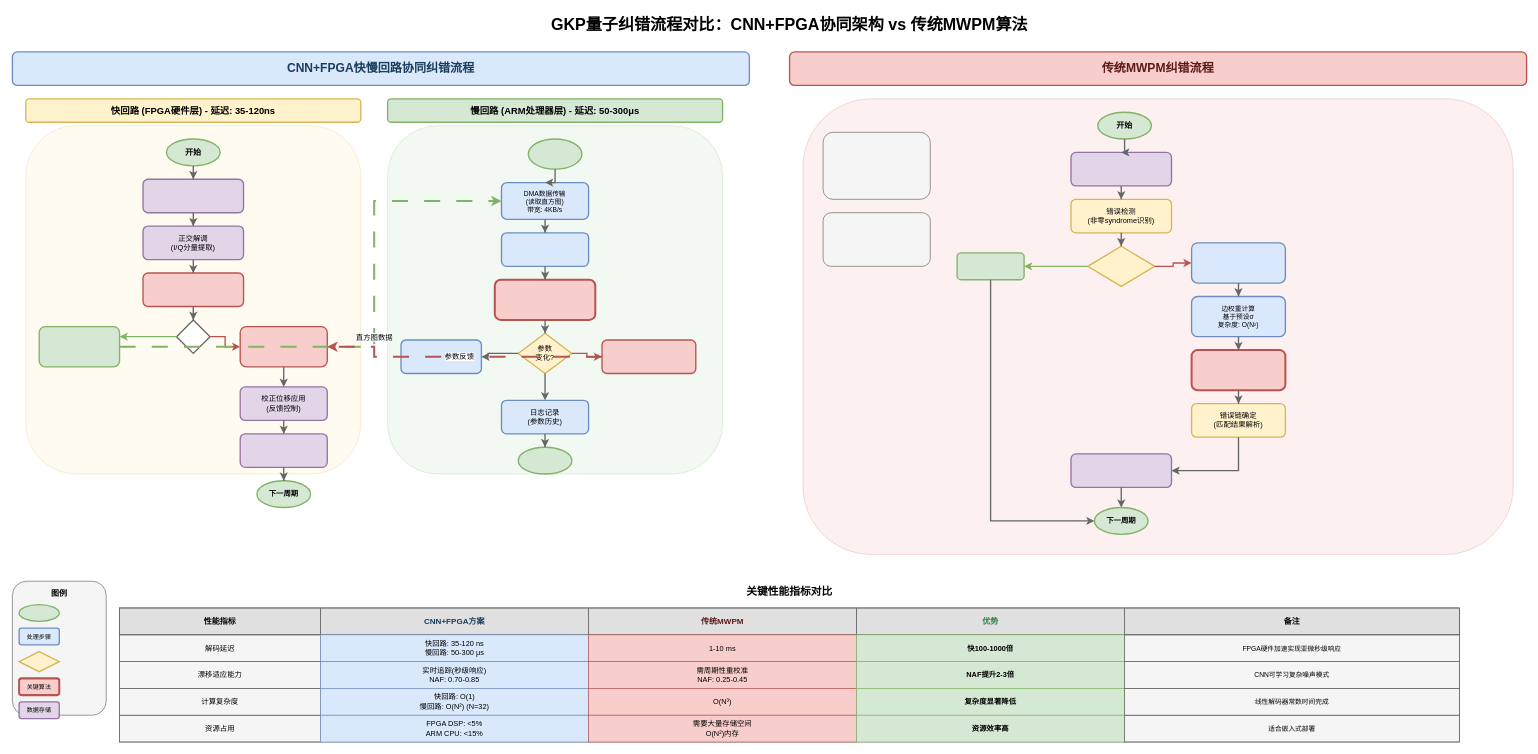
Image size: 1538x754. Some labels were removed from this diagram. The centre of each missing label's shape, as x and y in pixels:
"ADC数据采集 (微波信号数字化)" goes at (193,195).
"MWPM算法执行 (Blossom算法) 复杂度: O(N³)" goes at (1238,370).
"Pauli帧更新 (逻辑态追踪)" goes at (283,450).
"Syndrome测量 (稳定子测量)" goes at (1121,168).
"Tiny-CNN推理 (TFLite Micro) 预测: σ, μ, θ" goes at (544,299).
"决策节点" goes at (39,661).
"周期触发 (每1秒)" goes at (554,154).
"图像预处理 (归一化/增强)" goes at (544,249).
"局限性： • 无法适应漂移 • 高计算复杂度 • 需周期性重校准" goes at (876,239).
"开始/结束" goes at (39,613).
"性能特征： • 总延迟: 1-10 ms • 内存需求: O(N²) • 需预设噪声模型σ • 对模型失配敏感" goes at (876,165).
"性能监控 (LER统计)" goes at (441,356).
"有错误?" goes at (1121,266).
"构建综合征图 (节点=错误位置) 复杂度: O(N)" goes at (1238,262).
"校正操作应用 (Pauli门序列)" goes at (1121,470).
"校验子提取 (q_mod √π, p_mod √π)" goes at (193,289).
"直方图累积 (32×32 BRAM) 计数器++" goes at (79,346).
"等待下一周期" goes at (544,460).
"线性解码器 Δ = K @ s + b (DSP并行计算)" goes at (283,346).
"解码器参数更新 K, b → FPGA寄存器" goes at (648,356).
"跳过纠错" goes at (990,266).
